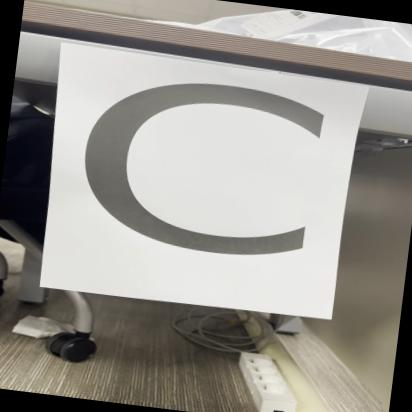seat: (38, 44, 370, 320)
